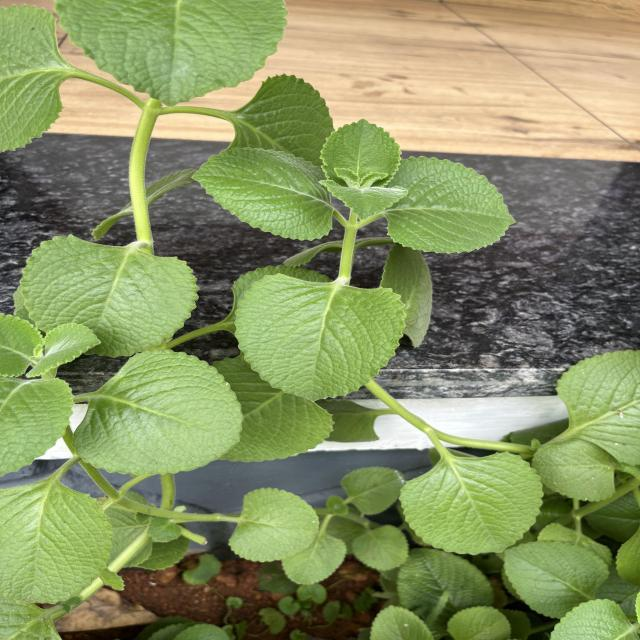Plectranthus barbatus: (15, 230, 202, 356), (235, 273, 410, 403), (72, 347, 245, 476), (398, 450, 545, 556), (189, 144, 341, 243), (0, 481, 116, 605), (388, 153, 519, 257), (501, 540, 612, 620), (227, 486, 322, 562), (530, 440, 617, 503), (320, 117, 402, 182), (280, 533, 348, 586), (339, 466, 402, 512), (352, 524, 410, 572)
